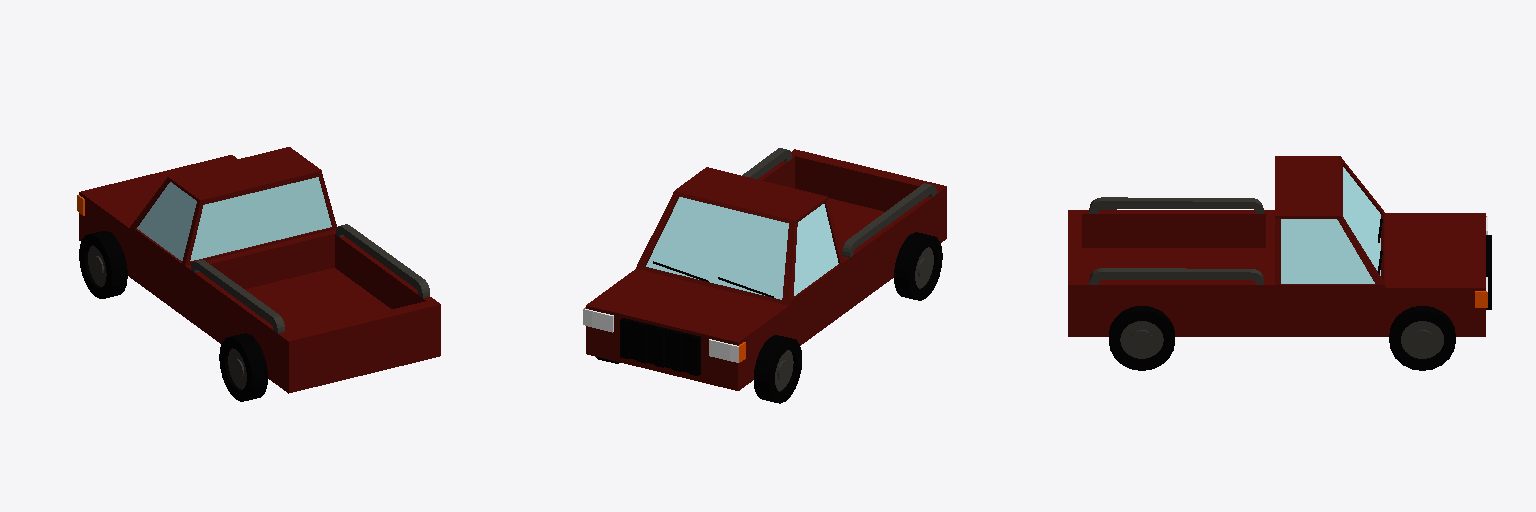
The model's file is Ute_Red.obj.
The picture shows the model from 3 angles: view 1: azimuth 30°, elevation 25°; view 2: azimuth 150°, elevation 25°; view 3: azimuth 270°, elevation 25°; orthographic projection.
Parts seen in each view (by area): view 1: Ute_Red; view 2: Ute_Red; view 3: Ute_Red.
Part boxes in pixels (bbox=[...]): Ute_Red: bbox=[77, 147, 440, 401]; Ute_Red: bbox=[583, 148, 946, 403]; Ute_Red: bbox=[1068, 156, 1491, 370].
Size of the model in its own units: 172 by 132 by 355.